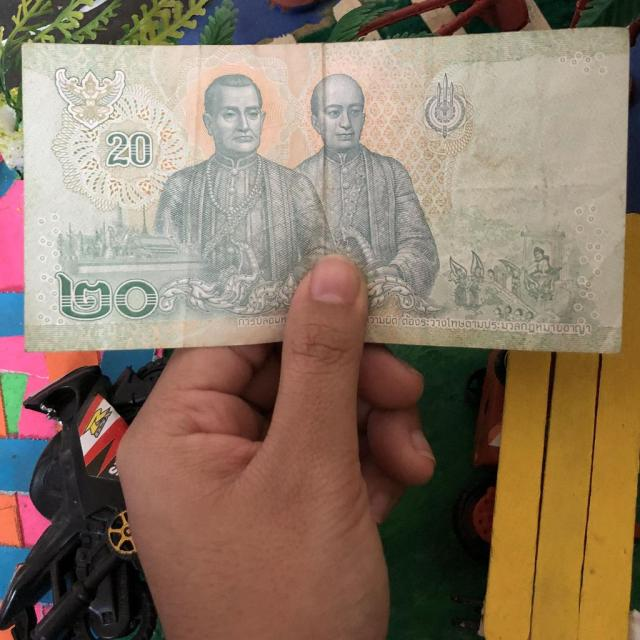THAI20: (22, 28, 629, 352)
